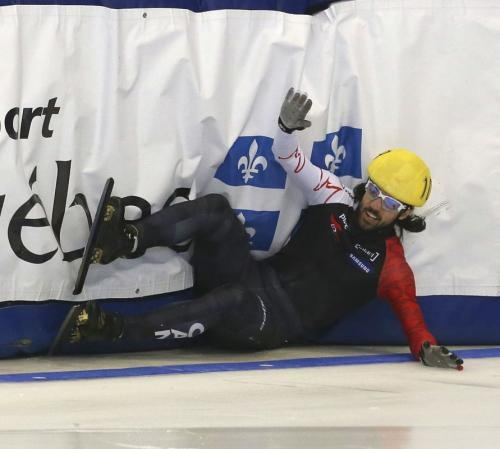falling: (14, 67, 440, 379)
